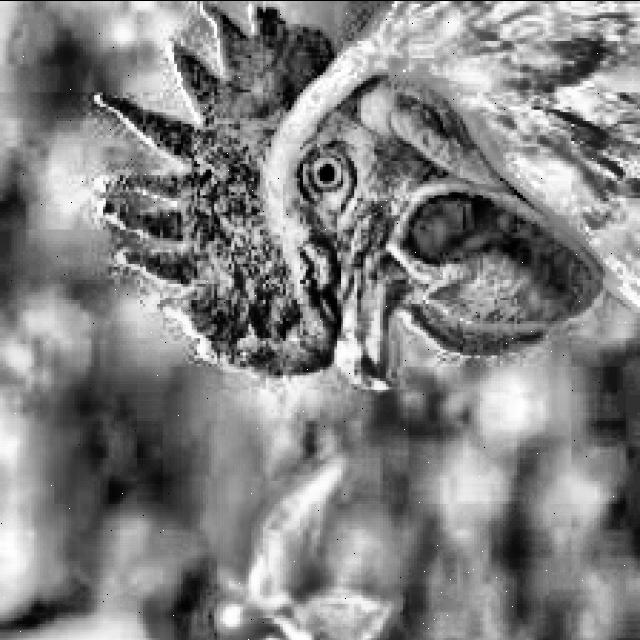Fowlpox: (126, 128, 428, 394)
